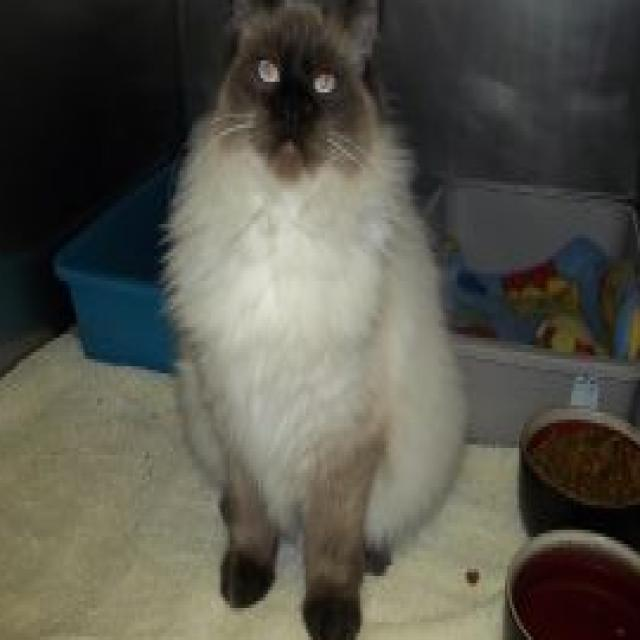Birman: (159, 0, 469, 640)
